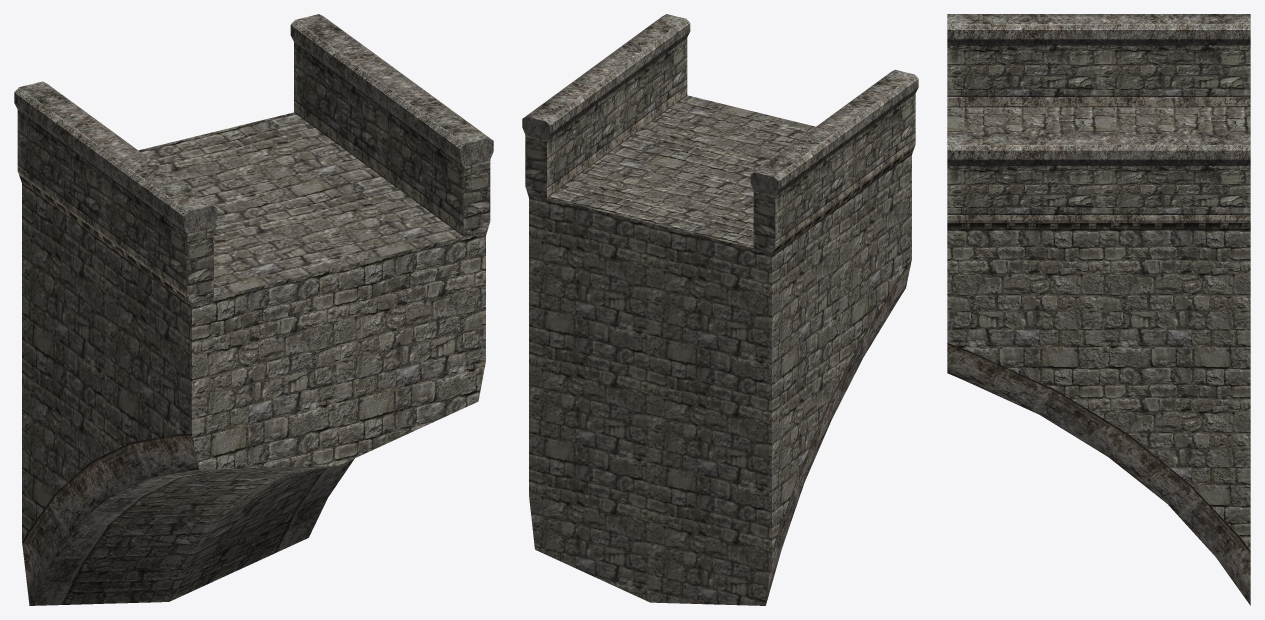
Rendered from StoneBridgeAbutment.dae.
3 views of the same model, side by side, from view 1: azimuth 30°, elevation 25°; view 2: azimuth 150°, elevation 25°; view 3: azimuth 270°, elevation 25° (orthographic). The views are drawn at different scales.
Parts seen in each view (by area): view 1: Abutment10_Support_sep36_Bridge_Tiling, Abutment10_Support_sep36_Bridge; view 2: Abutment10_Support_sep36_Bridge_Tiling, Abutment10_Support_sep36_Bridge; view 3: Abutment10_Support_sep36_Bridge, Abutment10_Support_sep36_Bridge_Tiling.
Boxes of the visible parts, box(x1,y1,x2,y2) form: Abutment10_Support_sep36_Bridge_Tiling: box(22, 112, 485, 542); Abutment10_Support_sep36_Bridge: box(14, 14, 493, 605); Abutment10_Support_sep36_Bridge_Tiling: box(529, 95, 911, 605); Abutment10_Support_sep36_Bridge: box(522, 14, 918, 604); Abutment10_Support_sep36_Bridge: box(947, 14, 1250, 605); Abutment10_Support_sep36_Bridge_Tiling: box(947, 107, 1250, 550).
Bounding box in the file's own units: 4.22 × 7.17 × 4.
